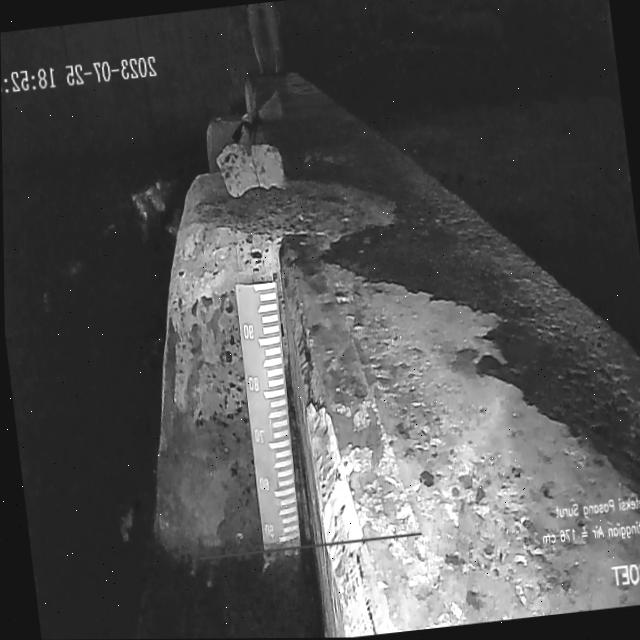water-meter: (220, 267, 311, 543)
